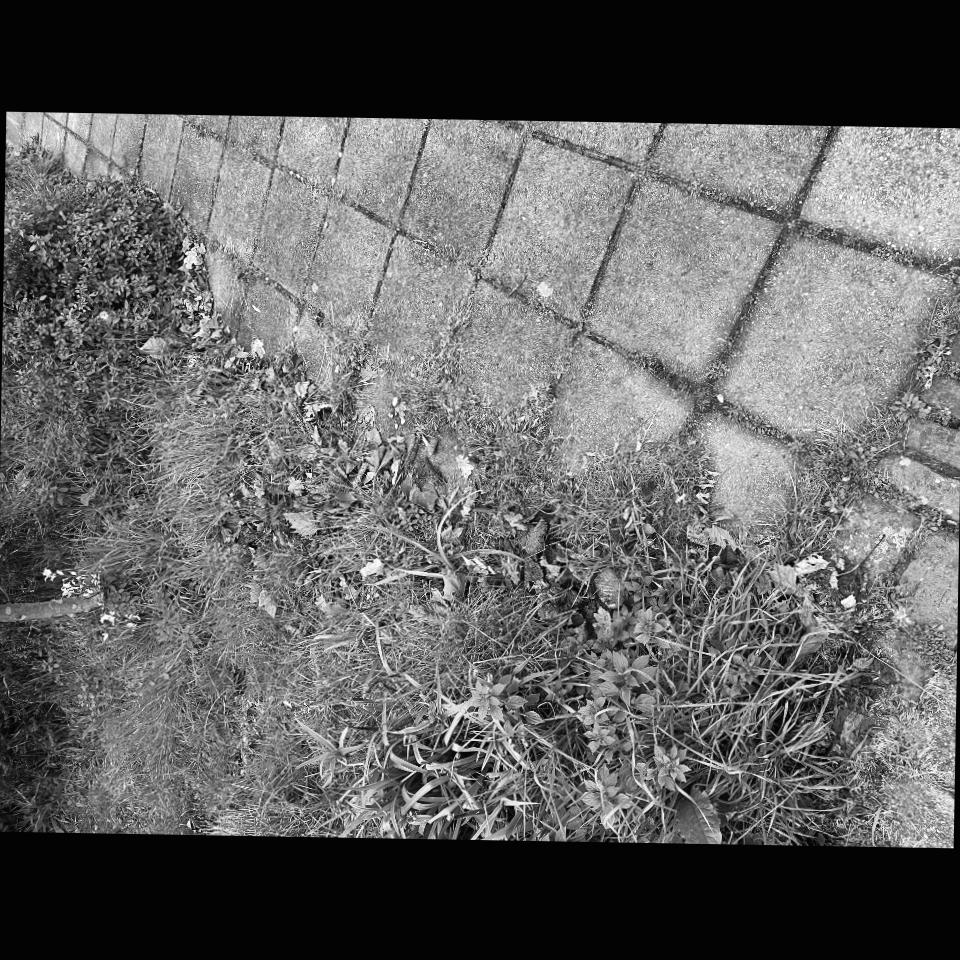weed: (799, 292, 960, 520), (182, 115, 393, 226), (563, 425, 701, 541), (425, 385, 553, 505), (872, 659, 956, 785), (423, 265, 486, 412), (253, 267, 365, 342), (192, 228, 263, 277), (724, 405, 788, 440), (905, 625, 953, 666)
